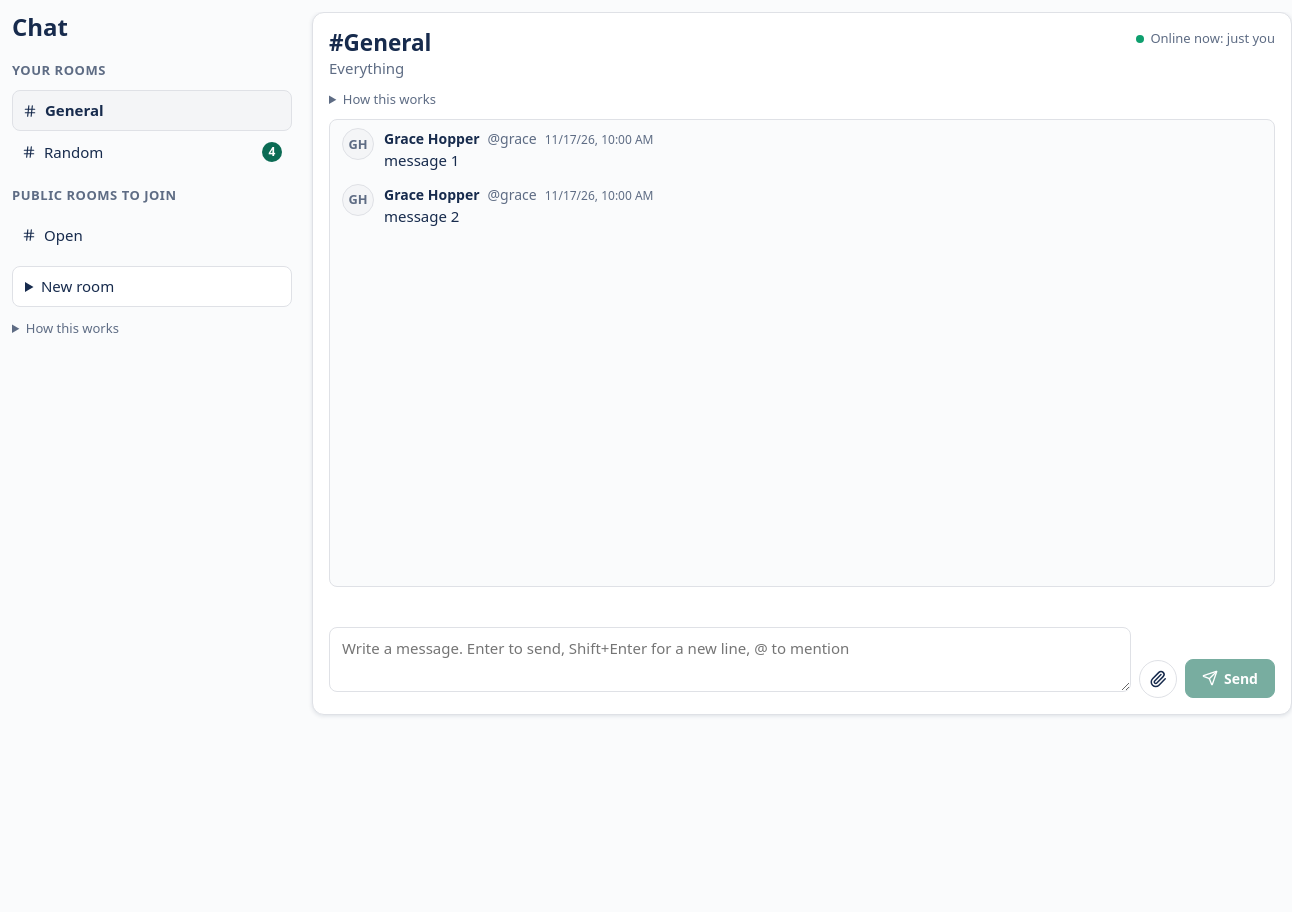
it: ChatPage: messages › shows an error and keeps the text when the insert is refused by RLS
Expected: the text "message 1" is shown, [384,150,459,170]
In the dropdown labelled "message": [730, 660] box [329,627,1131,692], type "nope"
Then press Enter
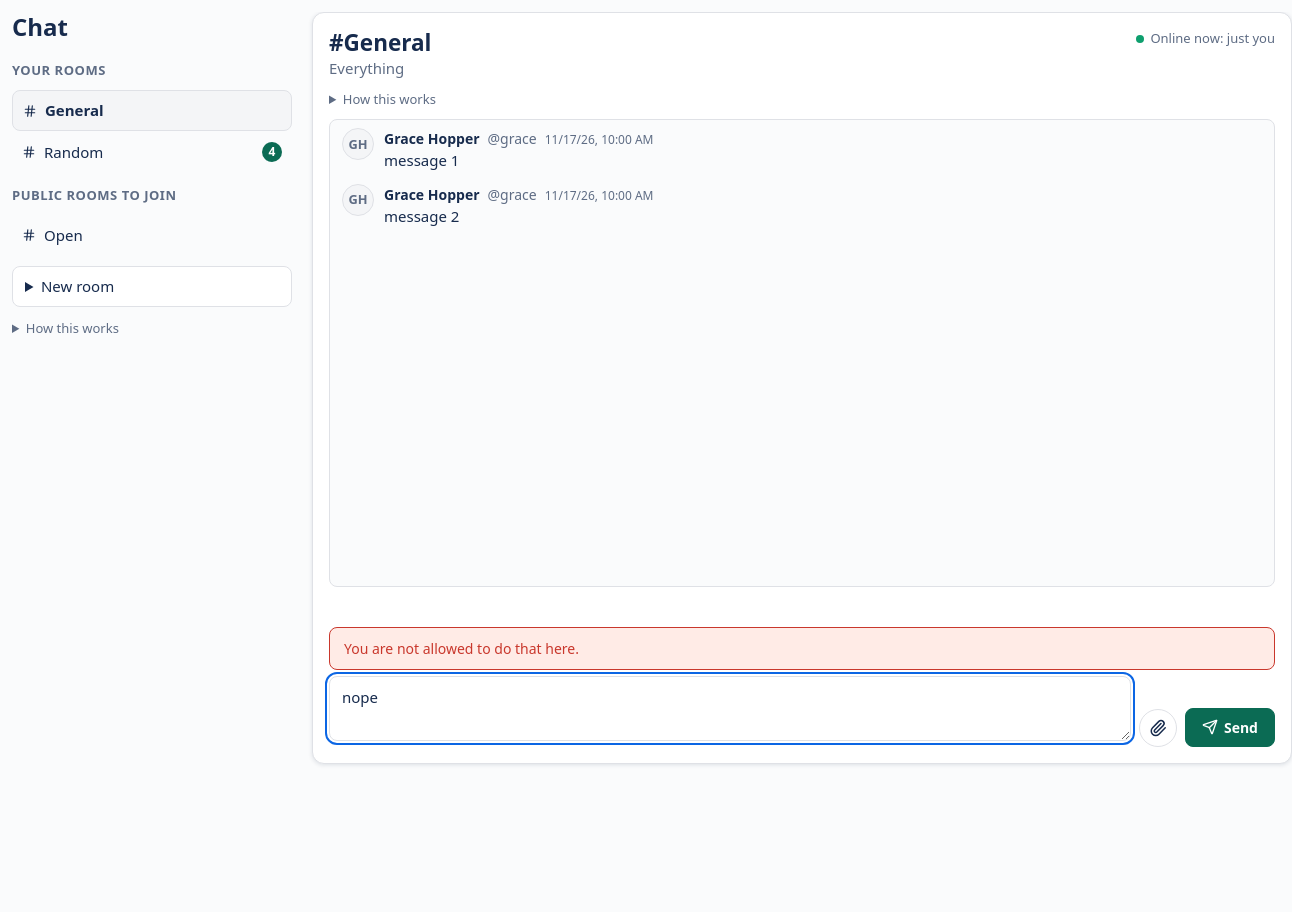
Result: the text "You are not allowed to do that here." is shown at [329,627,1275,670]
